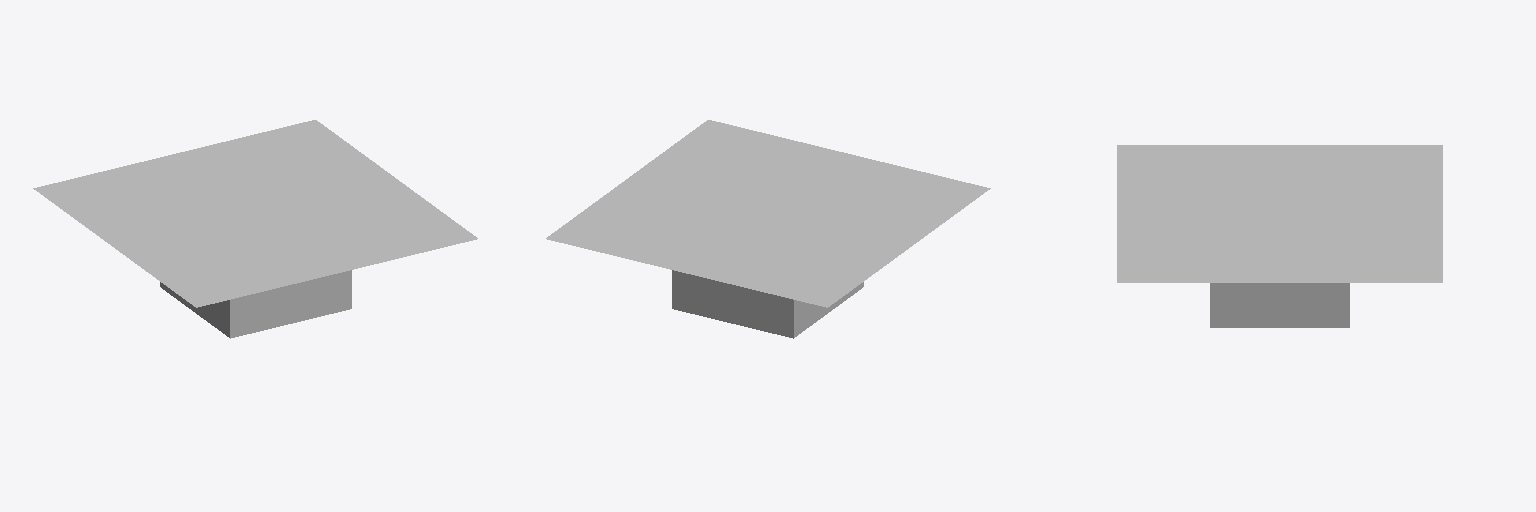
Rendered from sulfur_plant_open.obj.
3 renders of one model, left to right at view 1: azimuth 30°, elevation 25°; view 2: azimuth 150°, elevation 25°; view 3: azimuth 270°, elevation 25°, orthographic.
Parts seen in each view (by area): view 1: cube; view 2: cube; view 3: cube.
Boxes of the visible parts, box(x1,y1,x2,y2) form: cube: box(33, 120, 477, 338); cube: box(546, 120, 990, 338); cube: box(1117, 145, 1442, 327).
Size of the model in its own units: 1.75 by 0.5 by 1.75.